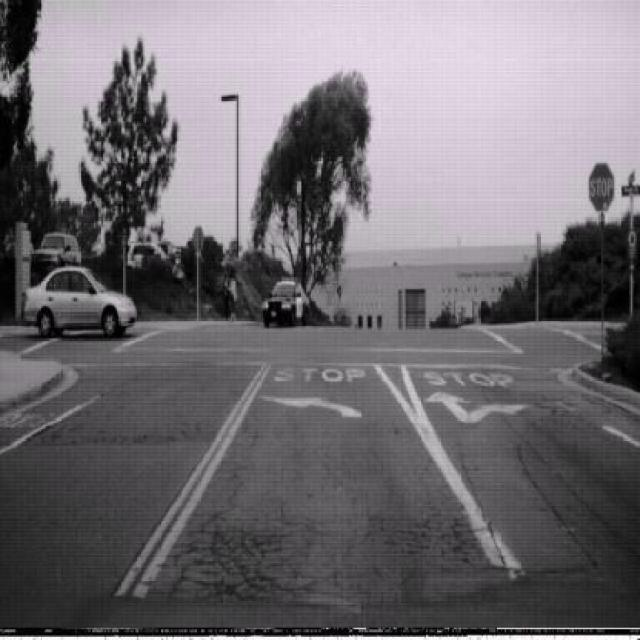stop: (588, 160, 614, 212)
